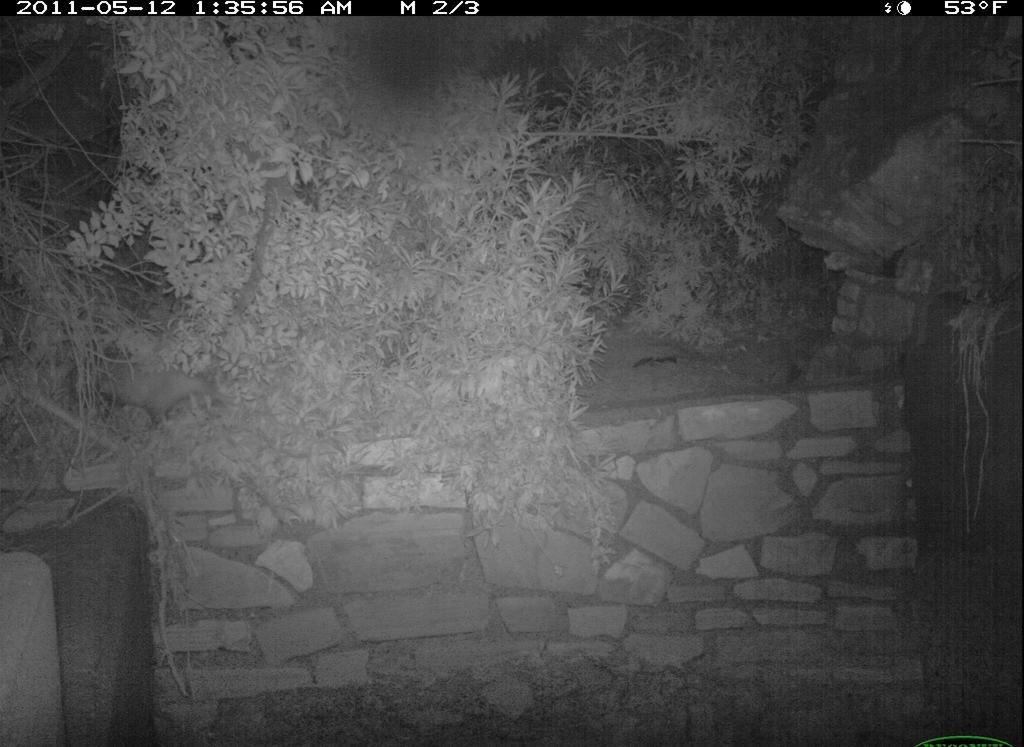opossum: (77, 347, 226, 437)
